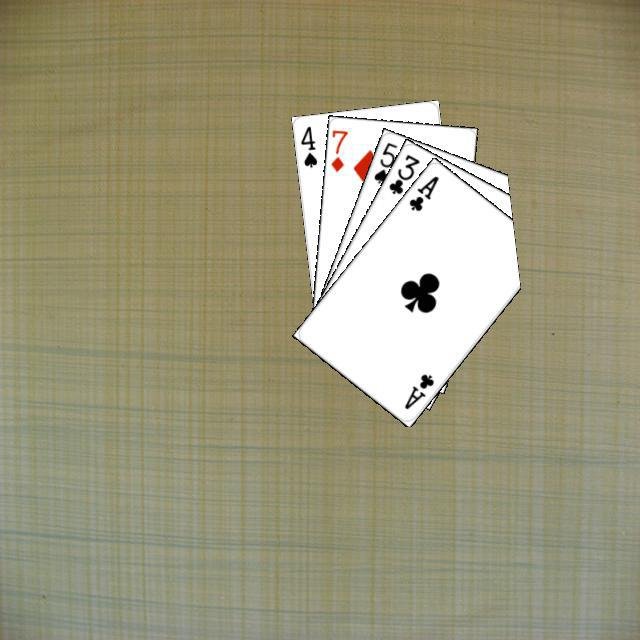3c: (384, 149, 421, 196)
4s: (296, 121, 319, 169)
5s: (369, 137, 399, 185)
7d: (326, 125, 349, 173)
Ac: (404, 171, 441, 213), (399, 369, 436, 411)
